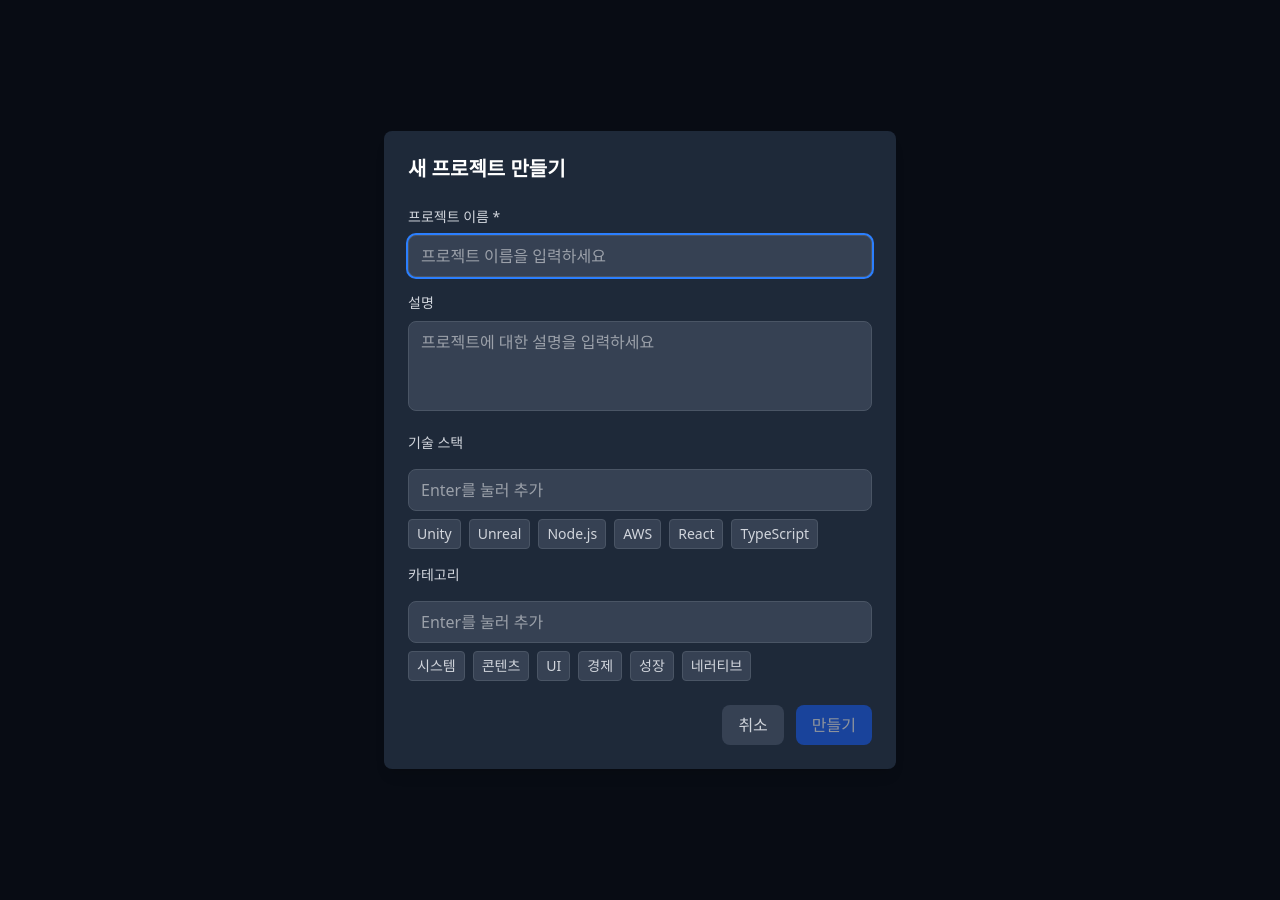
Test: ProjectCreateModal › Tag Input - Tech Stack › should remove tag when clicking remove button
This screenshot has width=1280, height=900.
Add two tags using suggestion buttons
Click the button with aria-label "add Unity" at (434, 534), box x1=408 y1=519 x2=461 y2=549
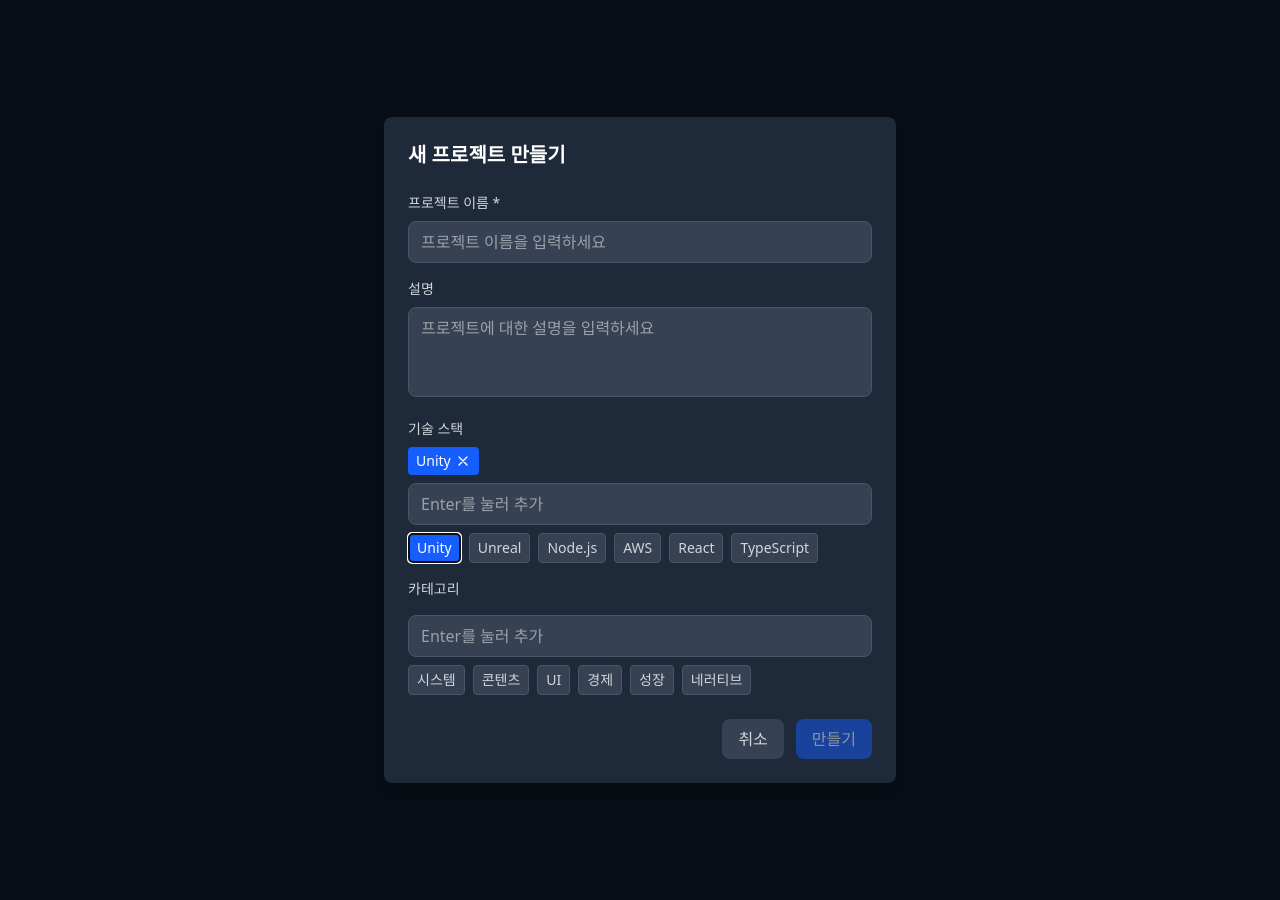
Click the button with aria-label "add Unreal" at (500, 548), box x1=469 y1=533 x2=530 y2=563
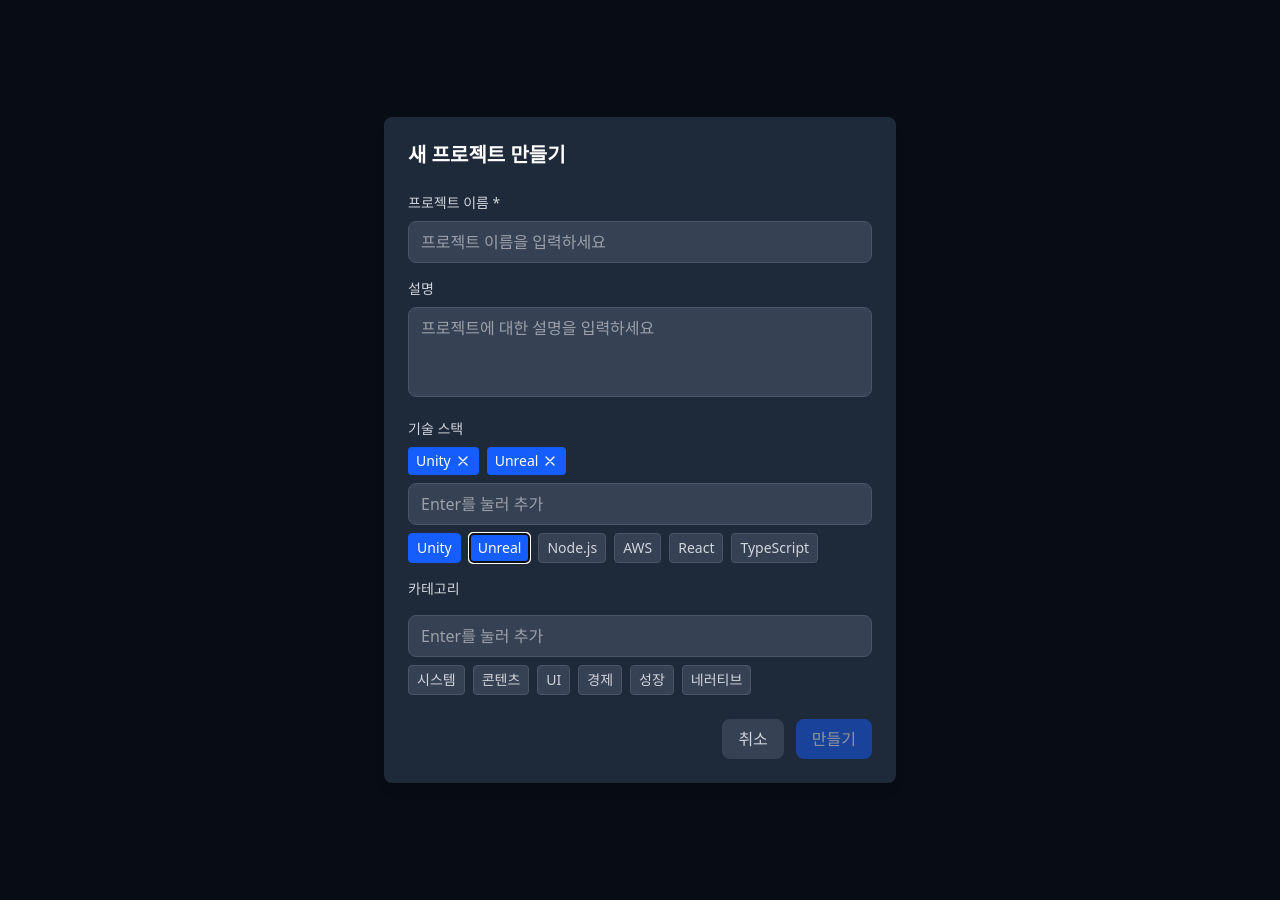
Now the element with test id "techstack-tags" shows "Unity", box x1=416 y1=451 x2=451 y2=470
Now the element with test id "techstack-tags" shows "Unreal", box x1=495 y1=451 x2=538 y2=470
Remove Unity tag by clicking its remove button
Click the button named "remove Unity" at (463, 461), box x1=455 y1=453 x2=471 y2=469
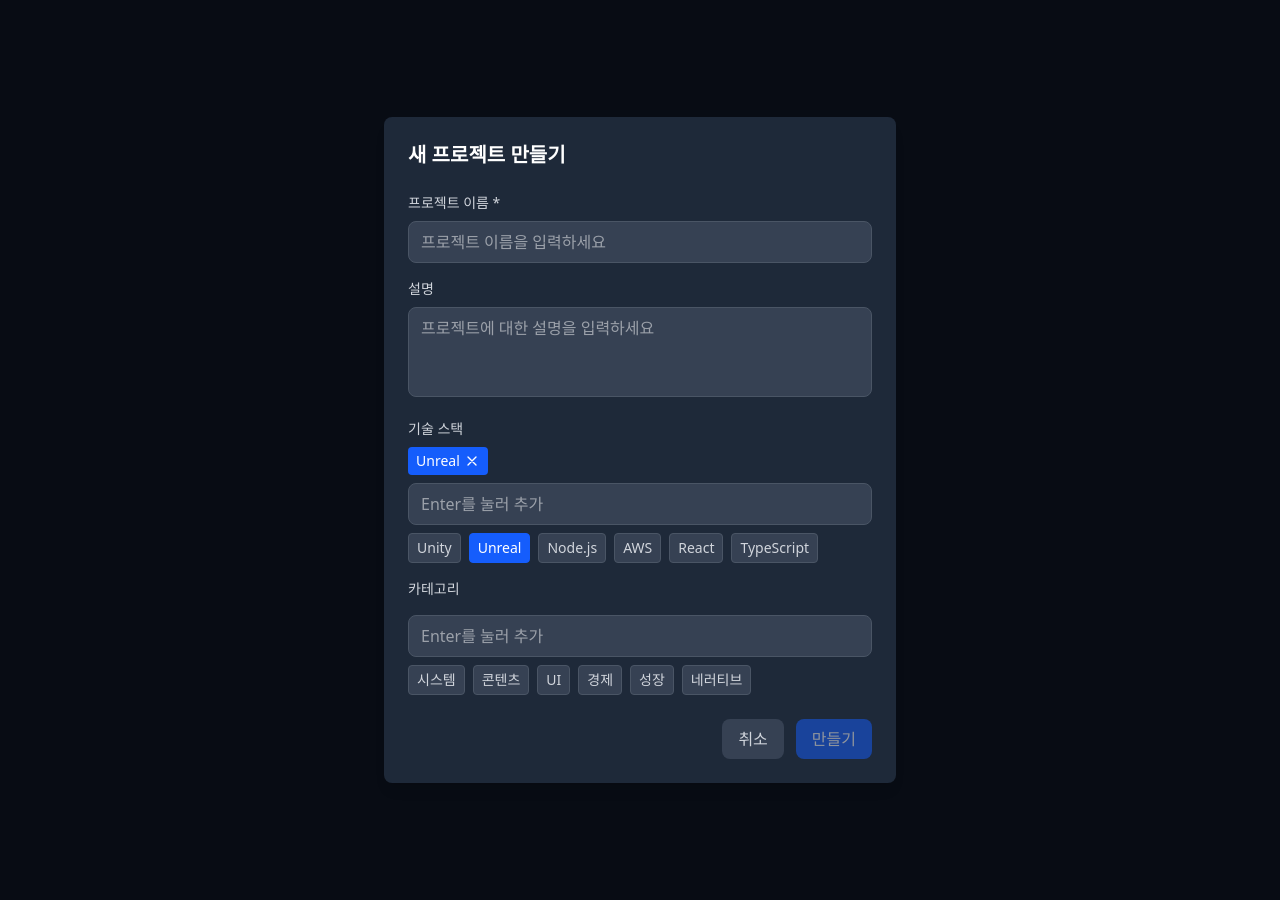
Expected: the element with test id "techstack-tags" does not show "Unity", x1=408 y1=447 x2=488 y2=475
Now the element with test id "techstack-tags" reads "Unreal", box x1=416 y1=451 x2=460 y2=470
